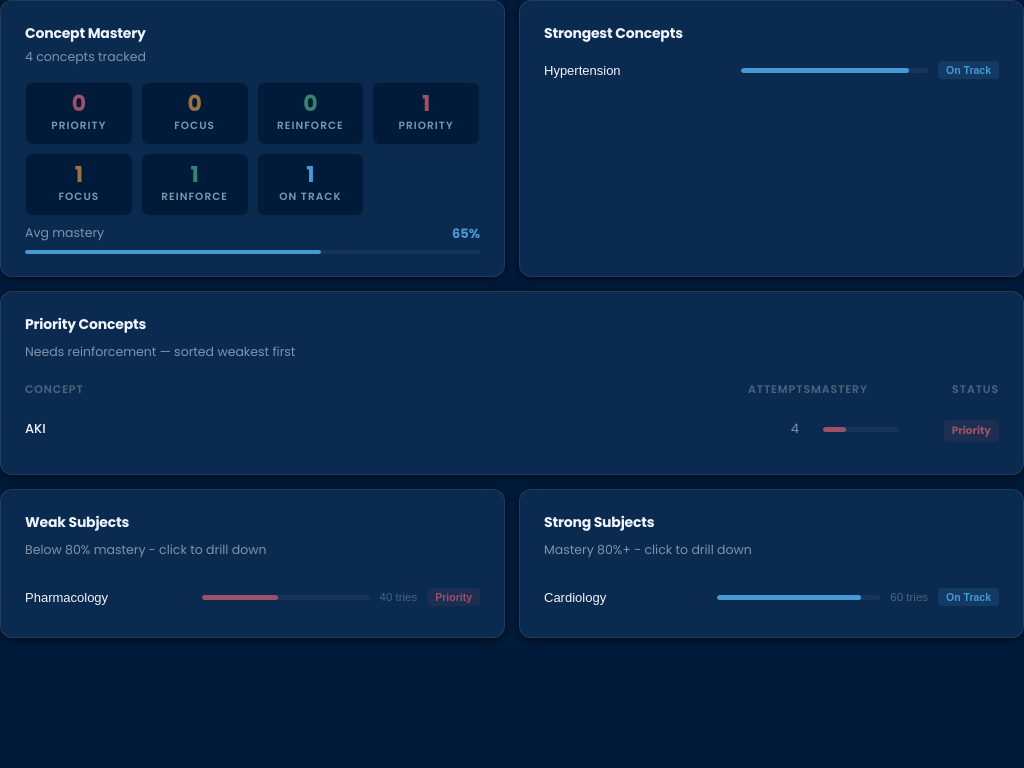
MasteryPanel — SubjectDrilldownModal › closing modal removes it from DOM
The image size is (1024, 768).
Click the button with aria-label "View Pharmacology subject details" at (252, 597), box [25,579,480,615]
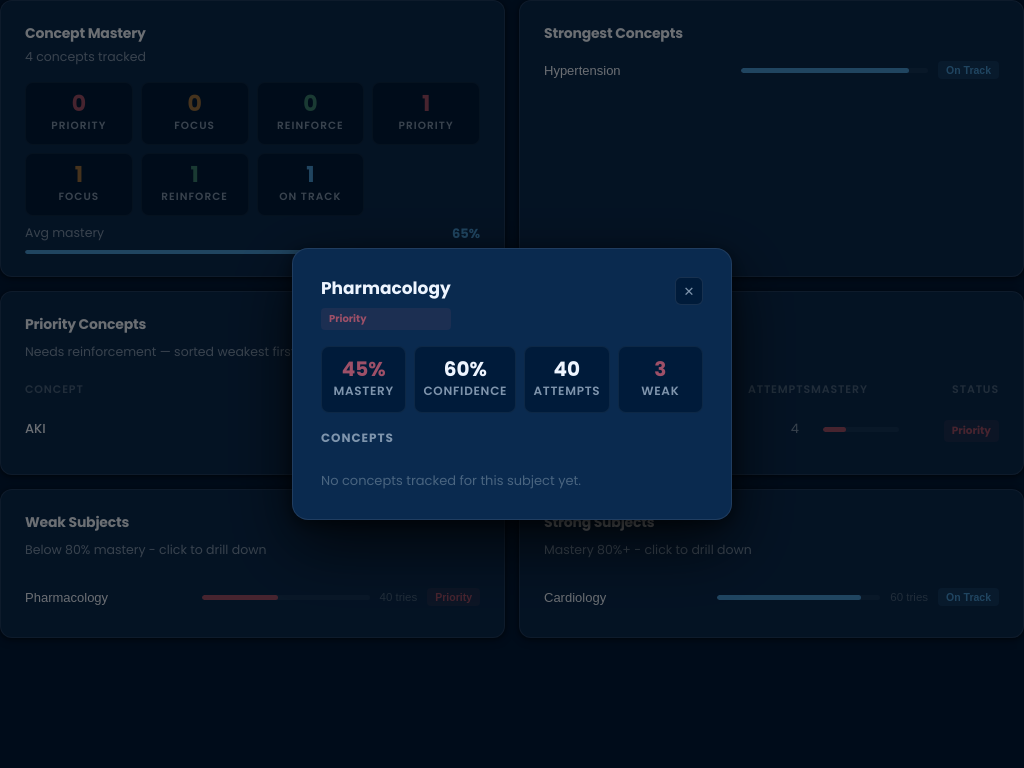
Expected: the dialog is shown
Click the button named "Close" at (689, 292), box [675,278,703,306]
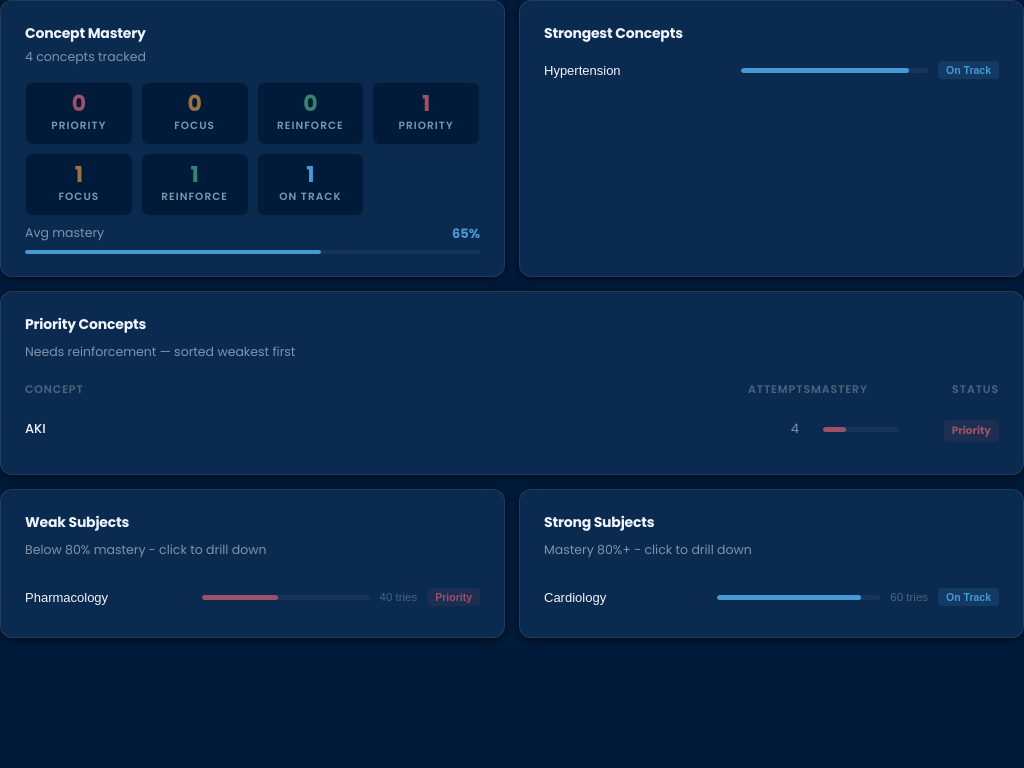
Expected: the dialog is gone
